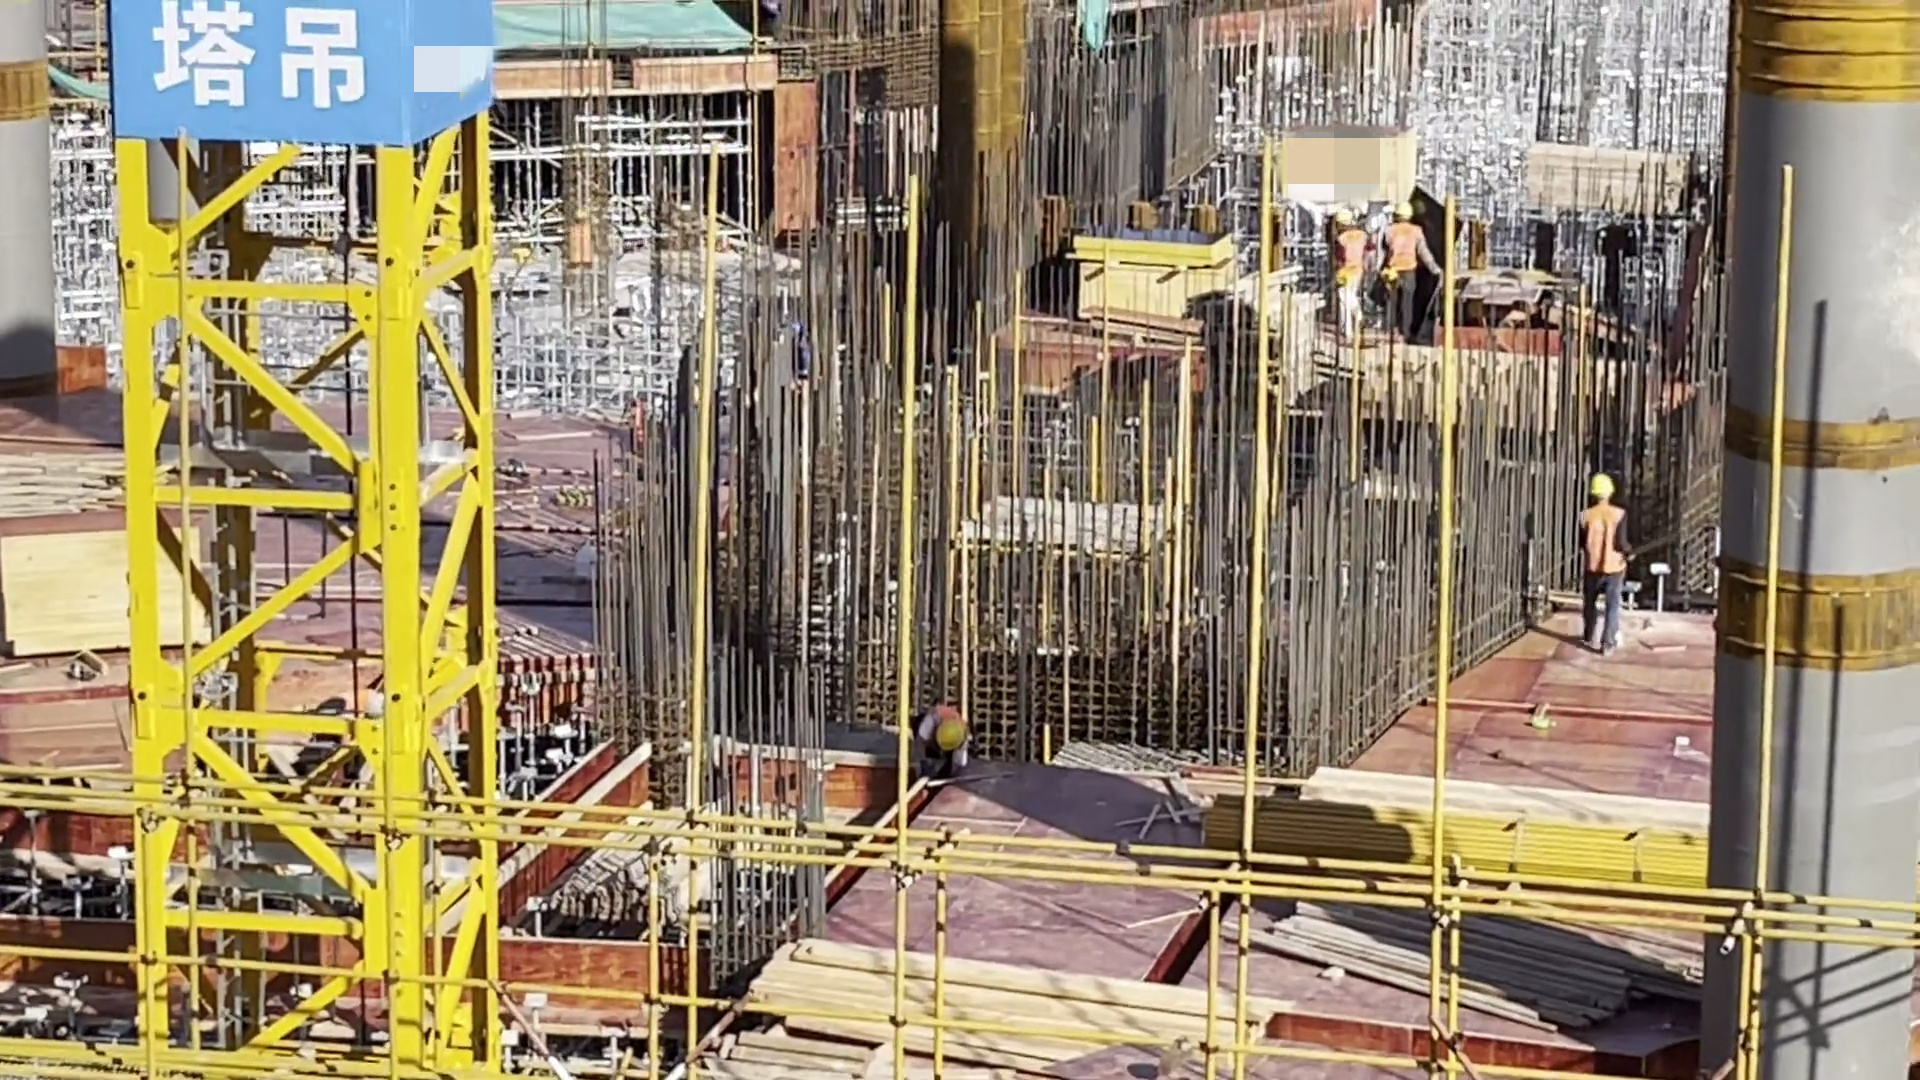helmet: (923, 709, 972, 761), (1581, 466, 1620, 506), (1330, 197, 1362, 236), (1387, 193, 1420, 230)
person: (1577, 468, 1630, 659), (1383, 197, 1444, 344), (908, 693, 977, 786), (1336, 208, 1379, 348)
vest: (1582, 506, 1624, 579), (1384, 225, 1428, 279), (1334, 229, 1370, 278)
